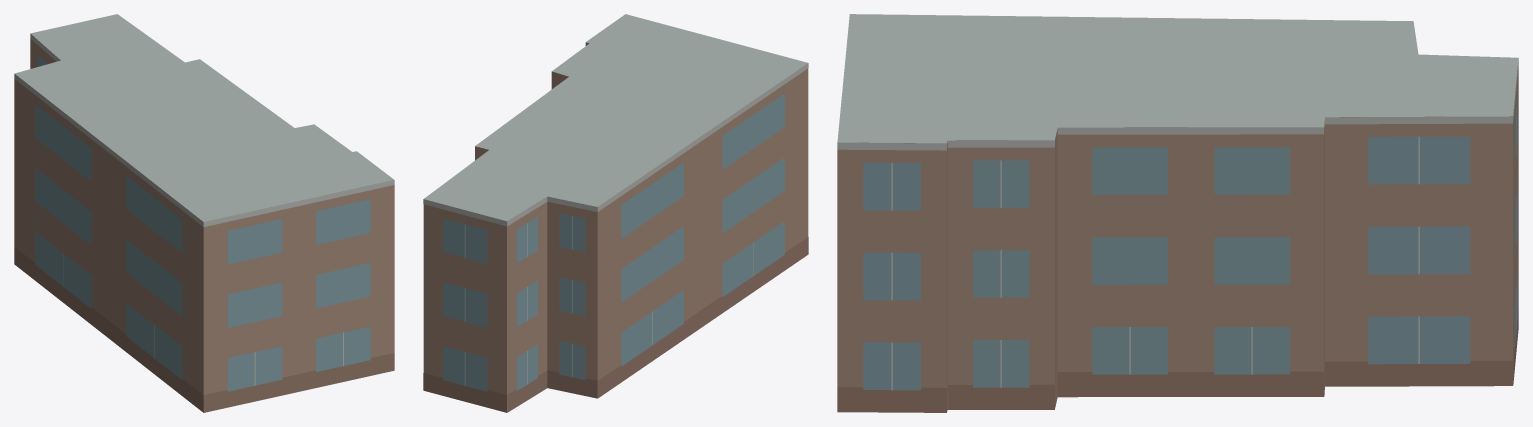
The model's file is survey-upis-32965994.glb.
The picture shows the model from 3 angles, left to right: view 1: azimuth 30°, elevation 25°; view 2: azimuth 150°, elevation 25°; view 3: azimuth 270°, elevation 25°; orthographic projection. The views are drawn at different scales.
Visible parts, largest first — view 1: survey-upis-32965994.tmp; view 2: survey-upis-32965994.tmp; view 3: survey-upis-32965994.tmp.
Boxes of the visible parts, x1,y1,x2,y2 form: survey-upis-32965994.tmp: (14, 14, 394, 412); survey-upis-32965994.tmp: (423, 14, 808, 412); survey-upis-32965994.tmp: (837, 14, 1518, 412).
Bounding box in the file's own units: 9.43 × 9.15 × 20.97.
